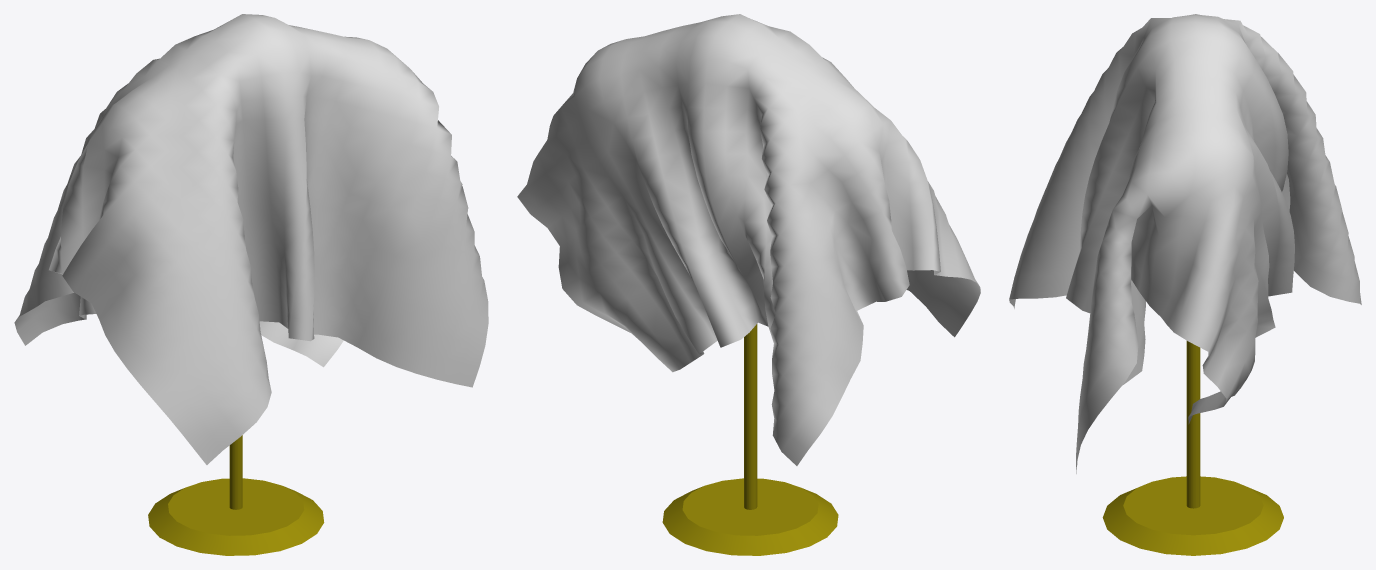
File: Ghost.fbx
The picture shows the model from 3 angles, left to right: view 1: azimuth 30°, elevation 25°; view 2: azimuth 150°, elevation 25°; view 3: azimuth 270°, elevation 25°; orthographic projection. The views are drawn at different scales.
Parts seen in each view (by area): view 1: Ghost; view 2: Ghost; view 3: Ghost.
Boxes of the visible parts, <box> form: Ghost: <box>14,14,488,555</box>; Ghost: <box>517,14,980,555</box>; Ghost: <box>1009,14,1361,555</box>.
Bounding box in the file's own units: 8.67 × 10.1 × 6.39.
